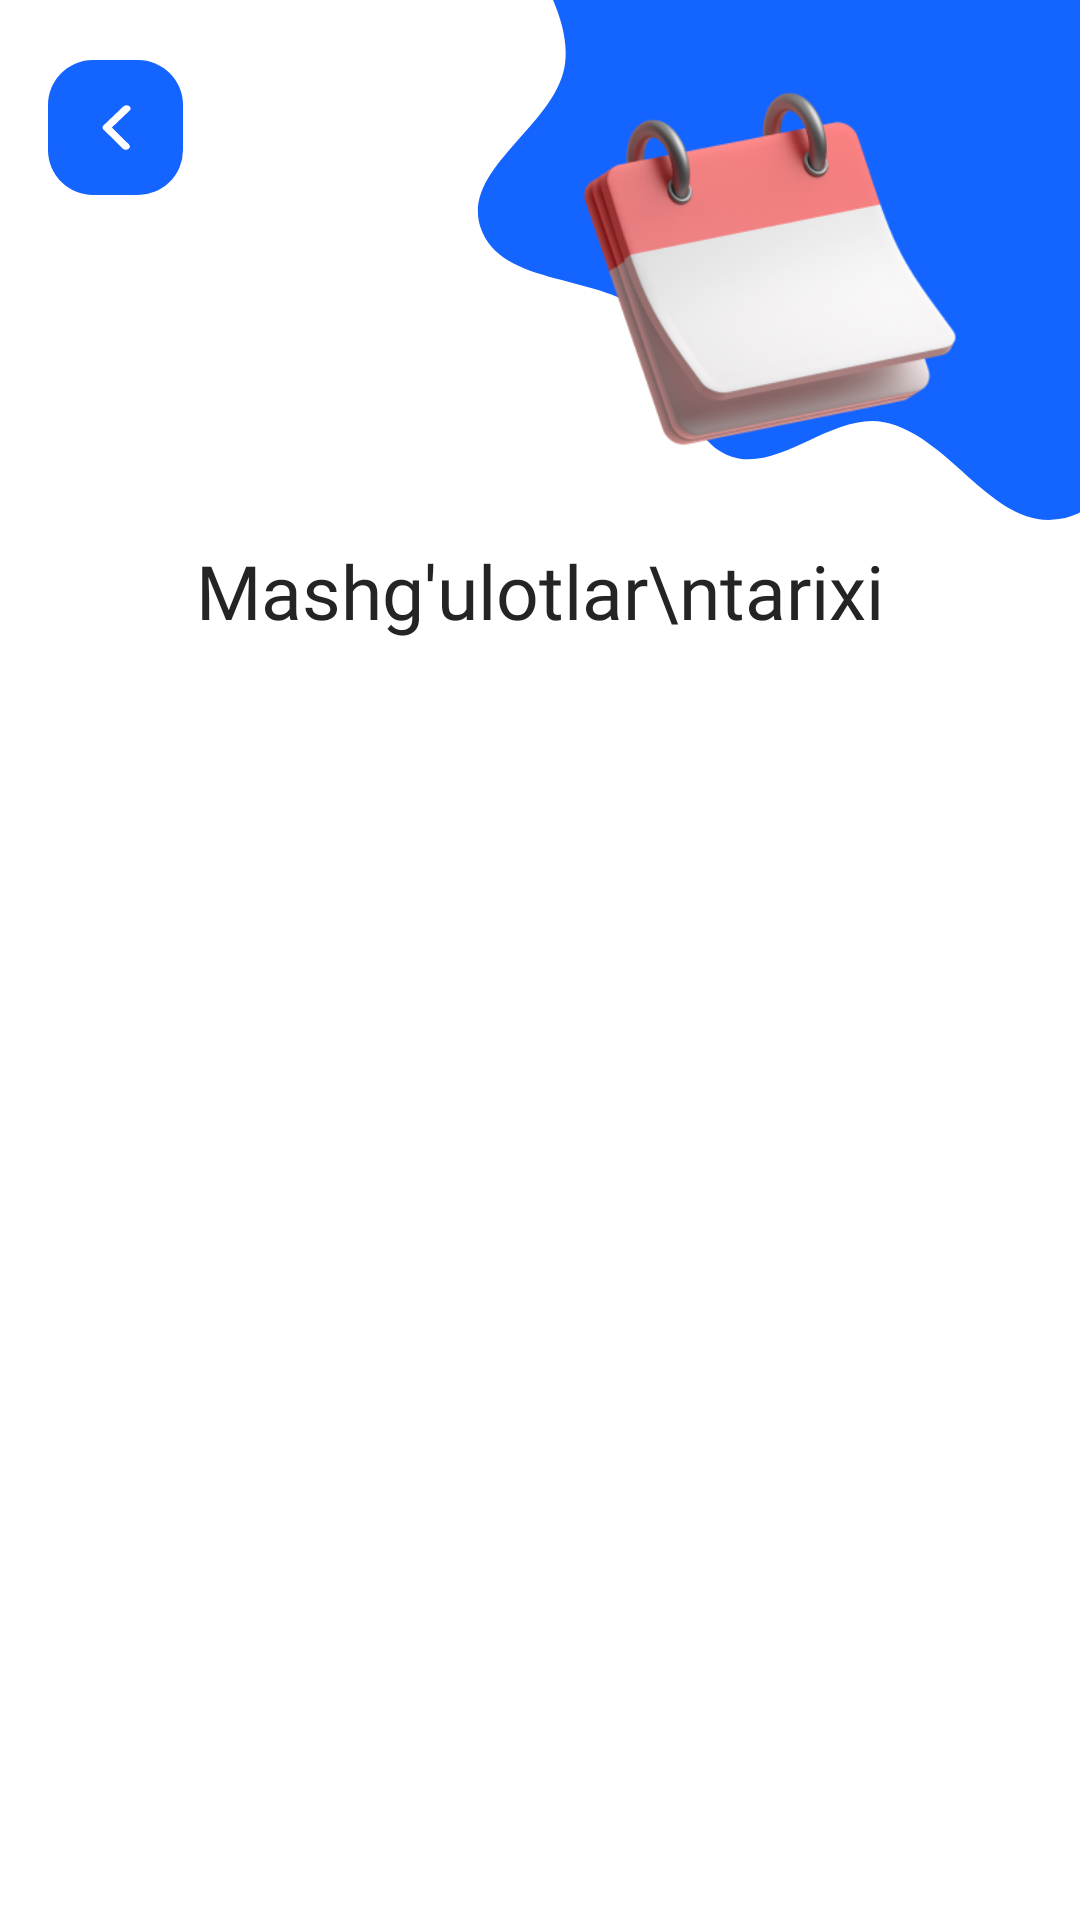

Screen size 1080×1920. Icon name, then its box in pixels as (x1, y1, x2, y2):
left arrow: (48, 60, 183, 195)
